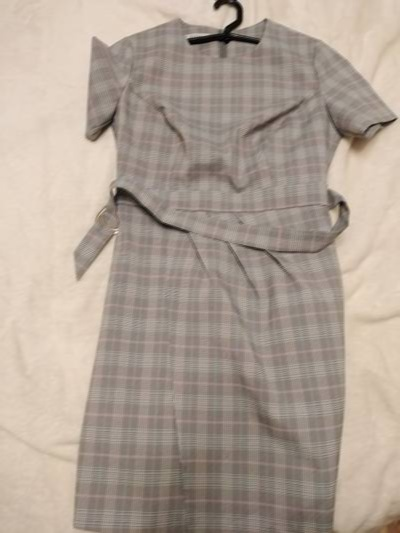Dress: (45, 12, 396, 528)
